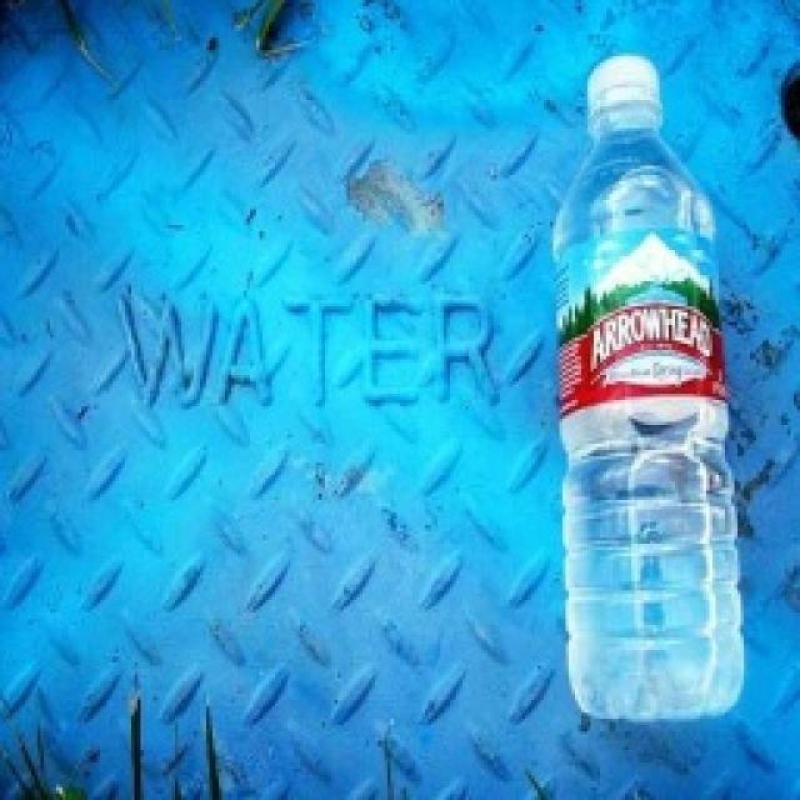botella: (551, 51, 749, 720)
